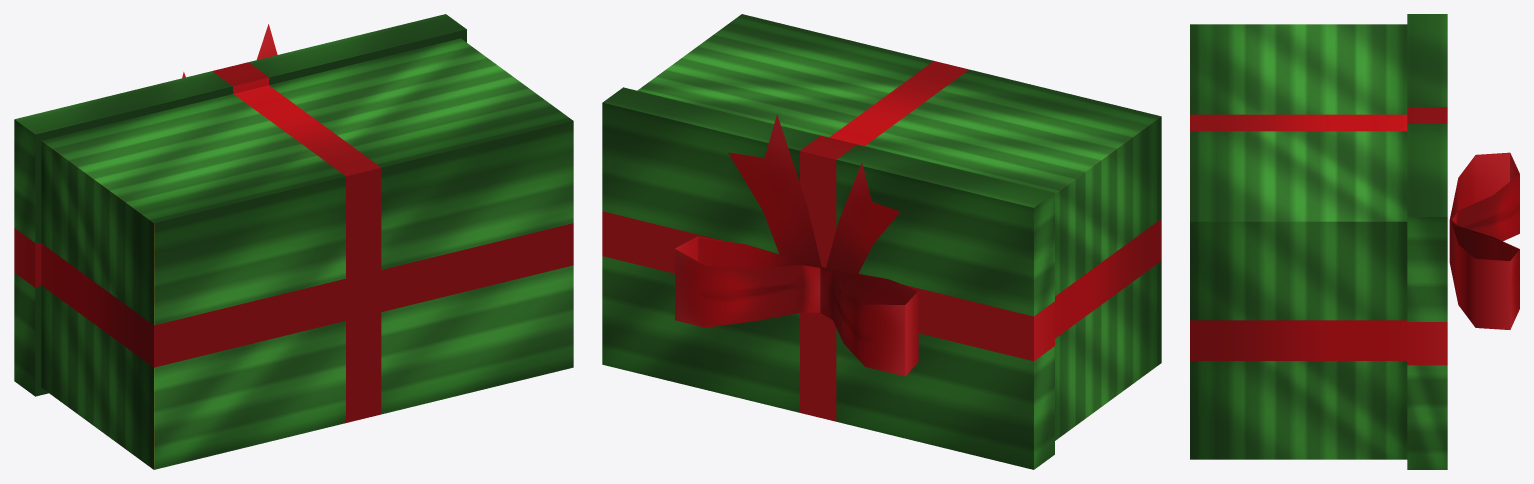
Rendered from Present_C.fbx.
The picture shows the model from 3 angles, left to right: view 1: azimuth 30°, elevation 25°; view 2: azimuth 150°, elevation 25°; view 3: azimuth 270°, elevation 25°; orthographic projection. The views are drawn at different scales.
Parts seen in each view (by area): view 1: Present_C; view 2: Present_C; view 3: Present_C.
Boxes of the visible parts, left/top/right/bottom form: Present_C: left=14, top=14, right=573, bottom=469; Present_C: left=602, top=14, right=1161, bottom=469; Present_C: left=1190, top=14, right=1519, bottom=469.
Size of the model in its own units: 28.13 by 18.36 by 19.3.
